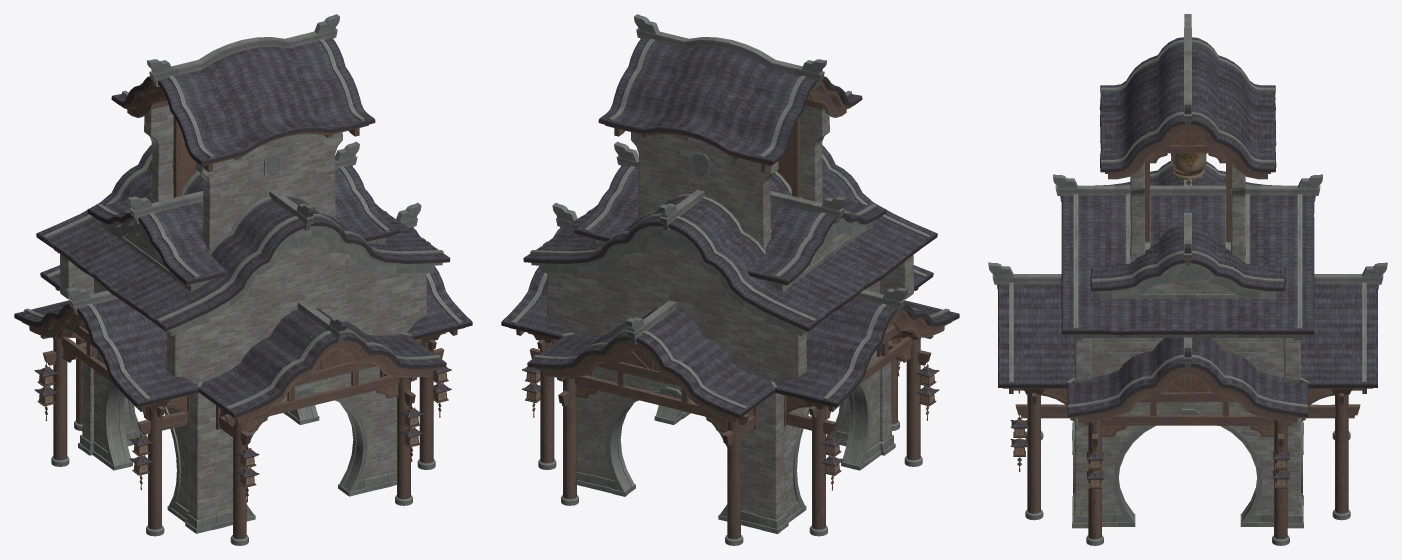
File: Homeworld_Exterior_Cyg_Build_YlbLianlang_01_Lod0.fbx
The picture shows the model from 3 angles, left to right: view 1: azimuth 30°, elevation 25°; view 2: azimuth 150°, elevation 25°; view 3: azimuth 270°, elevation 25°; orthographic projection. The views are drawn at different scales.
Visible parts, largest first — view 1: Homeworld_Exterior_Cyg_Build_YlbLianlang_01_Lod0, Area_Cyg_Light_QYZ_Deng_07_Vo (×4); view 2: Homeworld_Exterior_Cyg_Build_YlbLianlang_01_Lod0, Area_Cyg_Light_QYZ_Deng_07_Vo (×3); view 3: Homeworld_Exterior_Cyg_Build_YlbLianlang_01_Lod0, Area_Cyg_Light_QYZ_Deng_07_Vo (×3), Area_Cyg_Light_QYZ_Deng_12_Vo.
Boxes of the visible parts, x1,y1,x2,y2 form: Homeworld_Exterior_Cyg_Build_YlbLianlang_01_Lod0: (14, 14, 472, 545); Area_Cyg_Light_QYZ_Deng_07_Vo (×4): (34, 362, 423, 502); Homeworld_Exterior_Cyg_Build_YlbLianlang_01_Lod0: (501, 14, 959, 545); Area_Cyg_Light_QYZ_Deng_07_Vo (×3): (522, 362, 939, 490); Homeworld_Exterior_Cyg_Build_YlbLianlang_01_Lod0: (988, 14, 1387, 545); Area_Cyg_Light_QYZ_Deng_07_Vo (×3): (1010, 415, 1290, 503); Area_Cyg_Light_QYZ_Deng_12_Vo: (1170, 153, 1206, 185).
Size of what is drawn, in the model's own units: 15.33 by 17.76 by 15.33.
